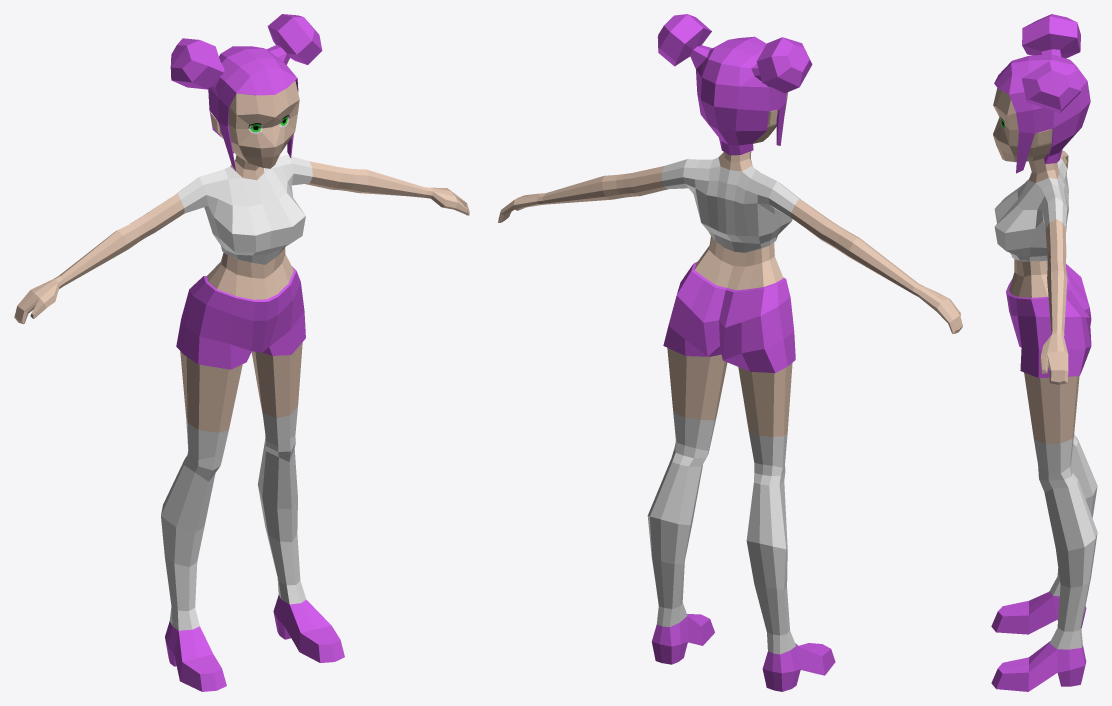
The model's file is woman_with_clothes.fbx.
The picture shows the model from 3 angles, left to right: view 1: azimuth 30°, elevation 25°; view 2: azimuth 150°, elevation 25°; view 3: azimuth 270°, elevation 25°; orthographic projection. The views are drawn at different scales.
Visible parts, largest first — view 1: Torso.005; view 2: Torso.005; view 3: Torso.005.
Boxes of the visible parts, bbox=[...] form: Torso.005: bbox=[14, 14, 469, 691]; Torso.005: bbox=[498, 14, 962, 691]; Torso.005: bbox=[991, 14, 1097, 691].
Bounding box in the file's own units: 123 × 164 × 25.67.
